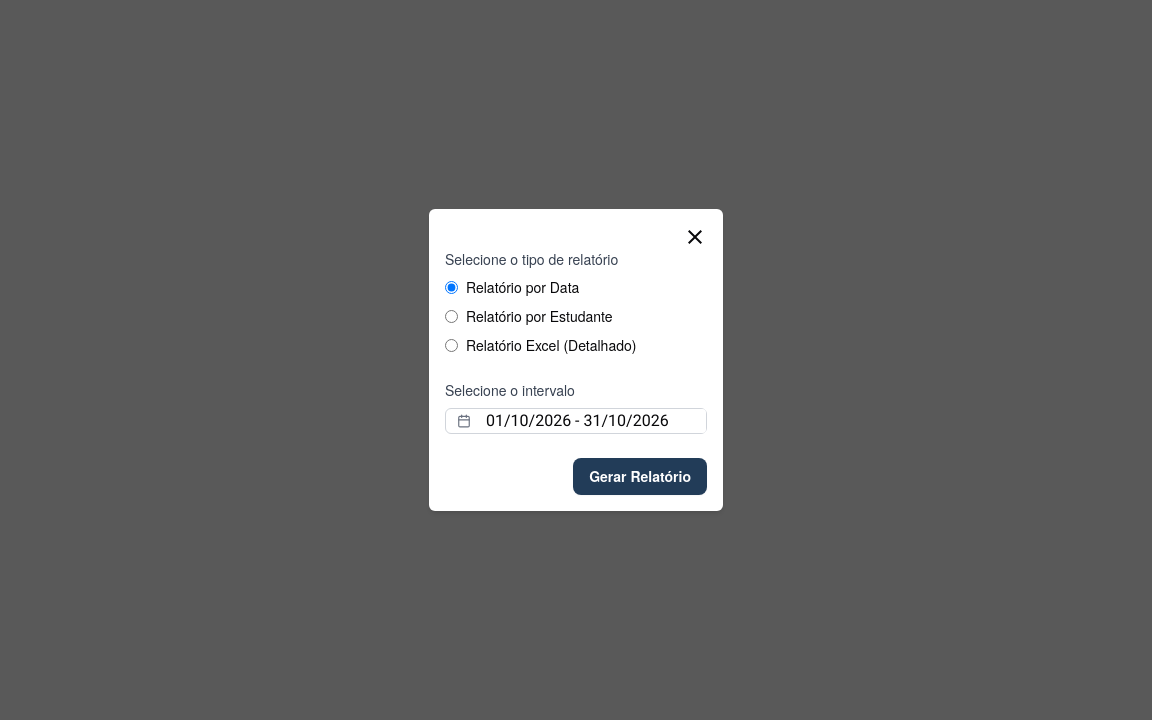
Test case: Relatório com o % do alerta (tickets/054, card 05) › com alerta configurado, o limite abre preenchido e diz de onde veio
Click the radio button labelled "Relatório Excel (Detalhado)". click: (452,346)
box: [445,339,458,352]
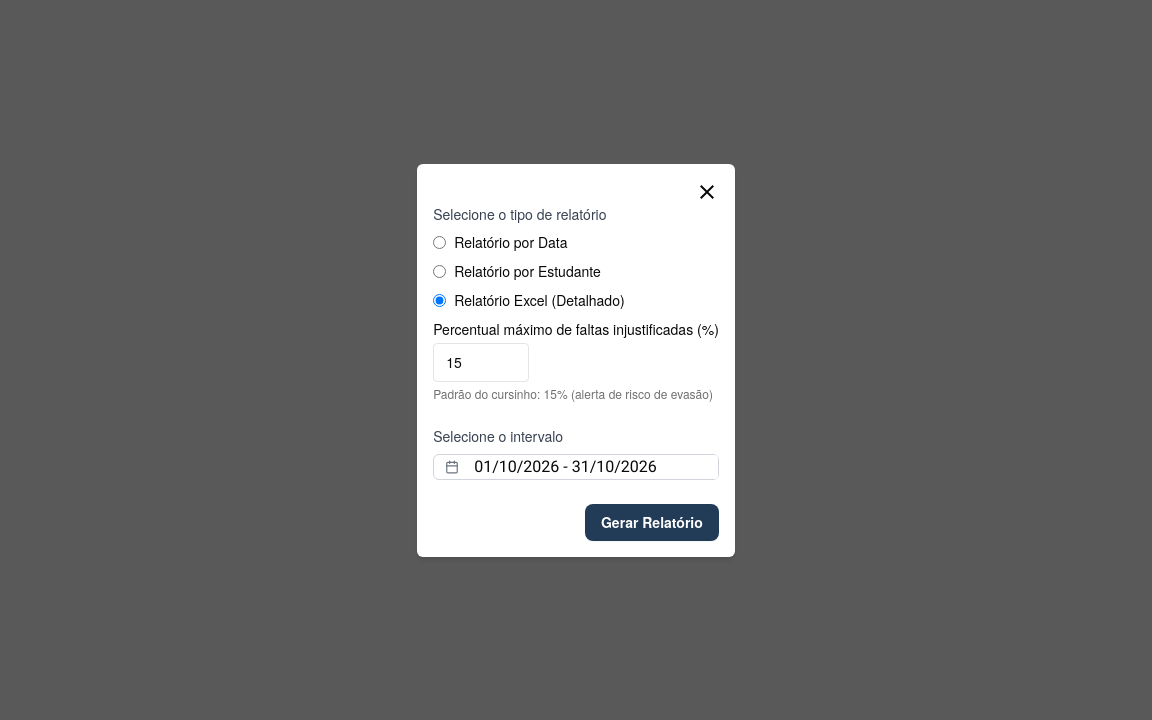
expect the number field holds "15": met, box [433,342,529,382]
expect the text "Padrão do cursinho: 15% (alerta de risco de evasão)" is shown: met, box [433,386,719,402]
